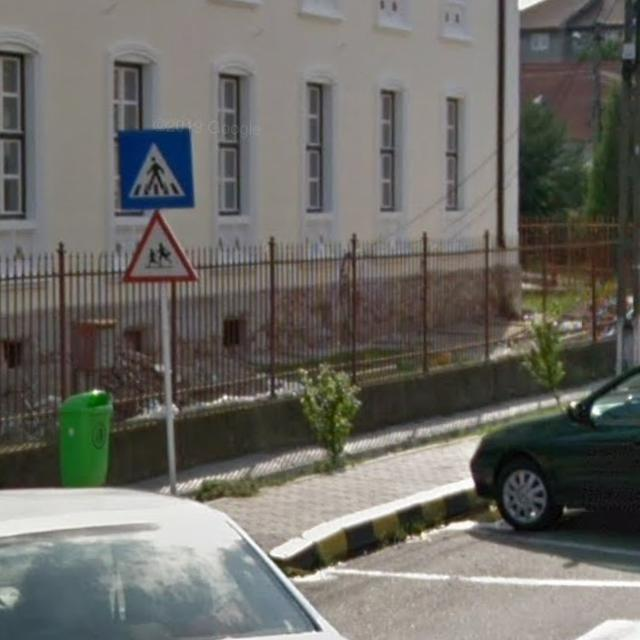info_crosswalk: (116, 130, 195, 210)
